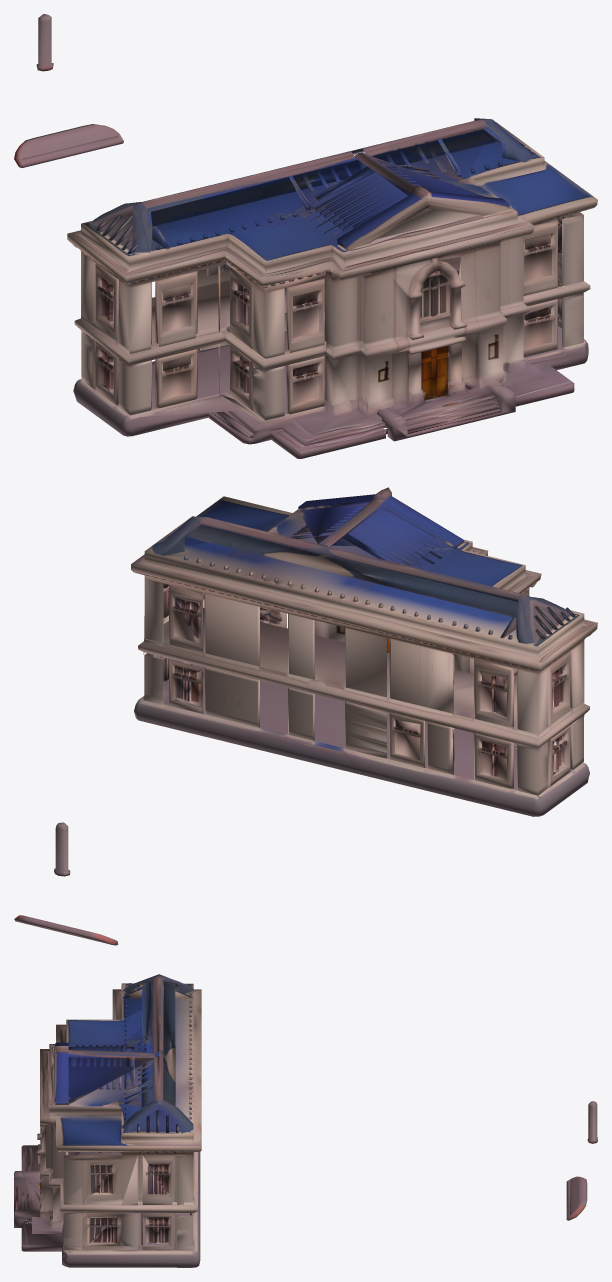
The model's file is town_hall.glb.
The picture shows the model from 3 angles, top to bottom: view 1: azimuth 30°, elevation 25°; view 2: azimuth 150°, elevation 25°; view 3: azimuth 270°, elevation 25°; orthographic projection. The views are drawn at different scales.
Visible parts, largest first — view 1: texture_pbr_v128; view 2: texture_pbr_v128; view 3: texture_pbr_v128.
Part boxes in pixels (x1=…): texture_pbr_v128: x1=14, y1=14, x2=597, y2=458; texture_pbr_v128: x1=14, y1=487, x2=597, y2=945; texture_pbr_v128: x1=14, y1=974, x2=597, y2=1267.
Bounding box in the file's own units: 1.21 × 0.5728 × 1.9.
Materials: 1 (1 with a texture image).
